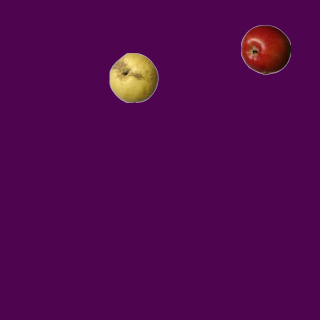Apple Braeburn: (240, 24, 290, 74)
Apple Golden 1: (108, 52, 158, 102)
